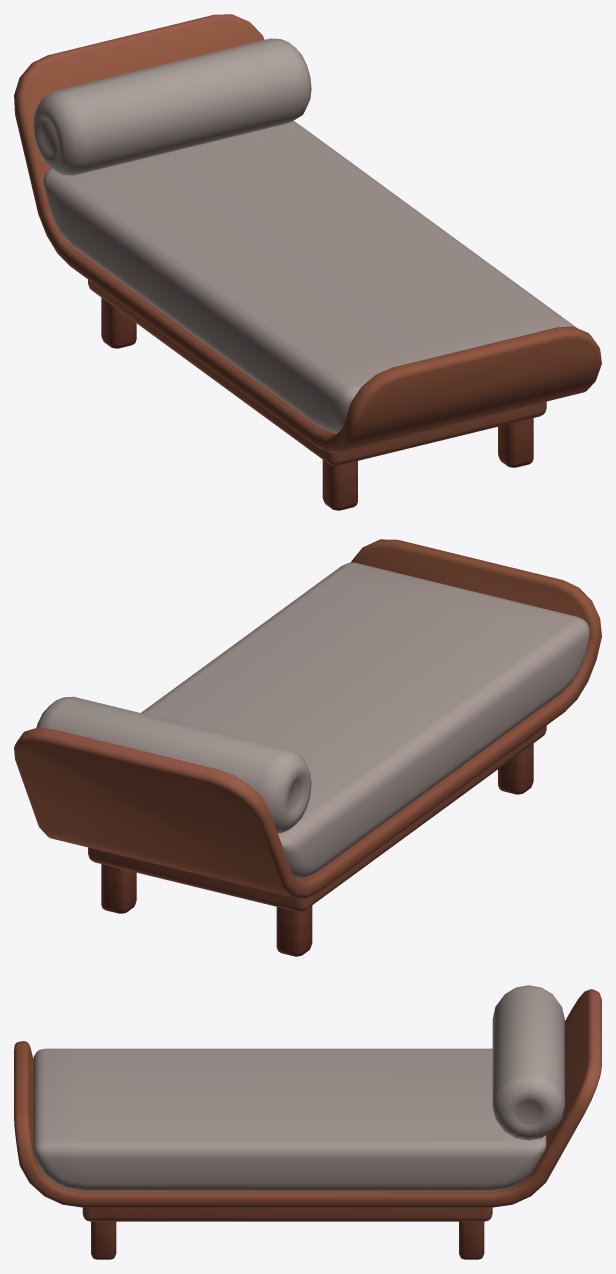
Rendered from Couch_05.glb.
3 views of the same model, one above another, from view 1: azimuth 30°, elevation 25°; view 2: azimuth 150°, elevation 25°; view 3: azimuth 270°, elevation 25° (orthographic). The views are drawn at different scales.
Visible parts, largest first — view 1: Couch_05; view 2: Couch_05; view 3: Couch_05.
Part boxes in pixels (left/top/right/bottom): Couch_05: left=14, top=14, right=601, bottom=510; Couch_05: left=14, top=539, right=601, bottom=956; Couch_05: left=14, top=985, right=601, bottom=1259.
Size of the model in its own units: 0.8 by 0.7127 by 1.95.
1 material, 1 textured.
